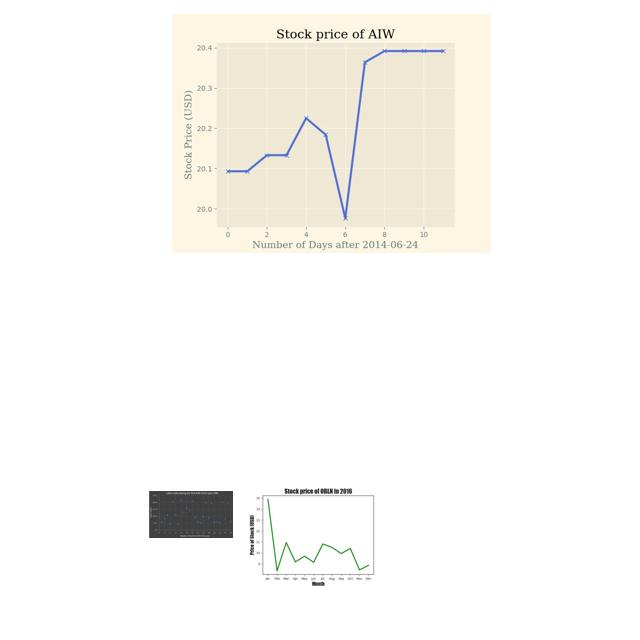Graph: (172, 14, 491, 253), (245, 481, 388, 588), (149, 491, 233, 538)
